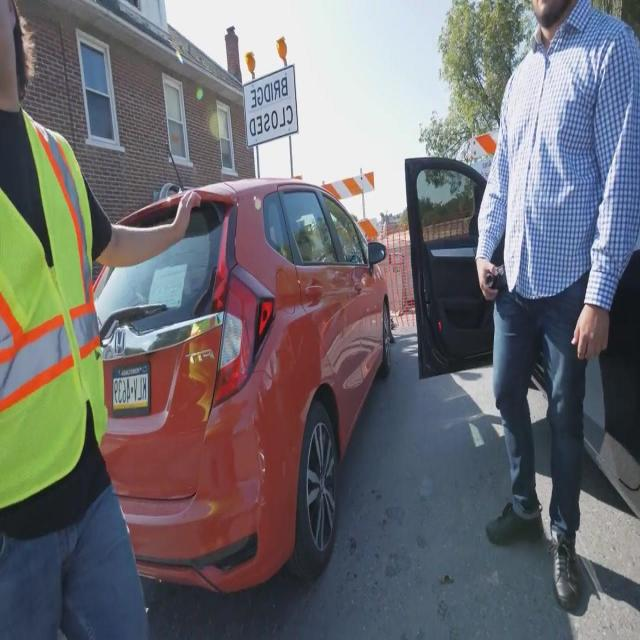Reflective-Jacket: (0, 97, 108, 523)
